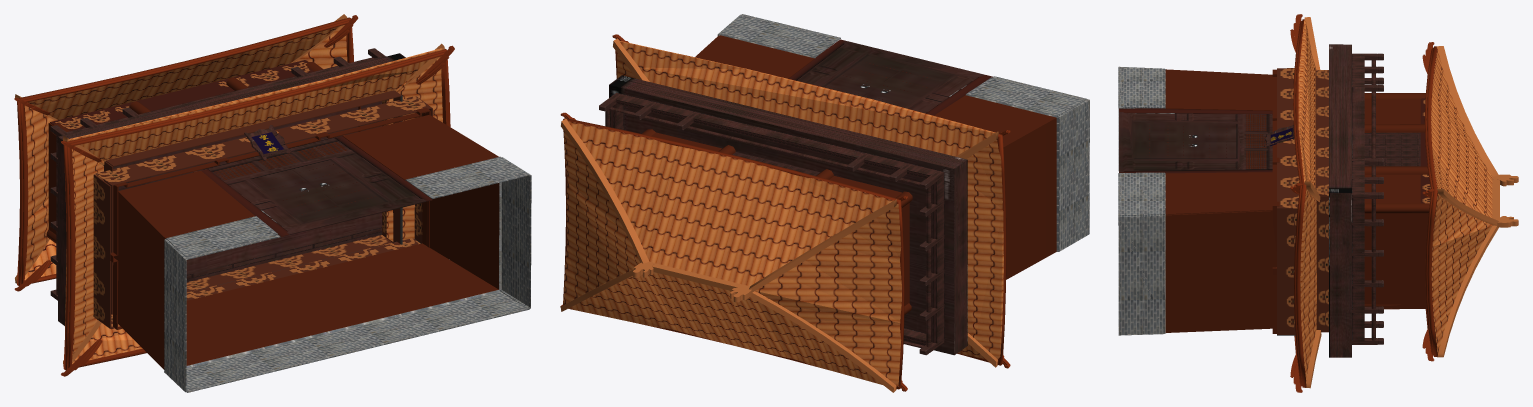
The picture shows the model from 3 angles, left to right: view 1: azimuth 30°, elevation 25°; view 2: azimuth 150°, elevation 25°; view 3: azimuth 270°, elevation 25°; orthographic projection. The views are drawn at different scales.
Parts seen in each view (by area): view 1: wang; view 2: wang; view 3: wang.
Part boxes in pixels (x1,y1,x2,y2): wang: (14, 14, 531, 392); wang: (560, 14, 1089, 392); wang: (1118, 14, 1518, 392).
Bounding box in the file's own units: 446 × 255 × 442.
15 materials, 12 textured.
